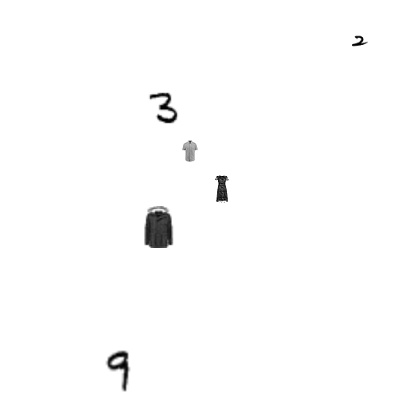2: (348, 30, 370, 52)
3: (144, 87, 186, 129)
9: (92, 337, 148, 393)
Coat: (137, 206, 179, 248)
Dress: (208, 175, 236, 203)
Shirt: (179, 140, 201, 162)
